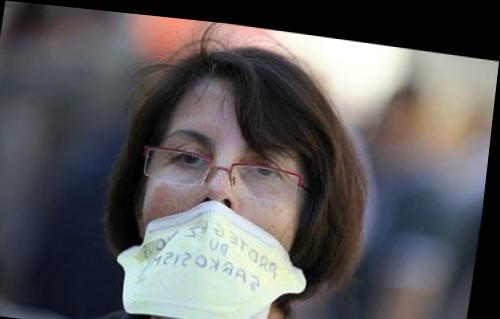WRONG: (137, 113, 322, 301)
